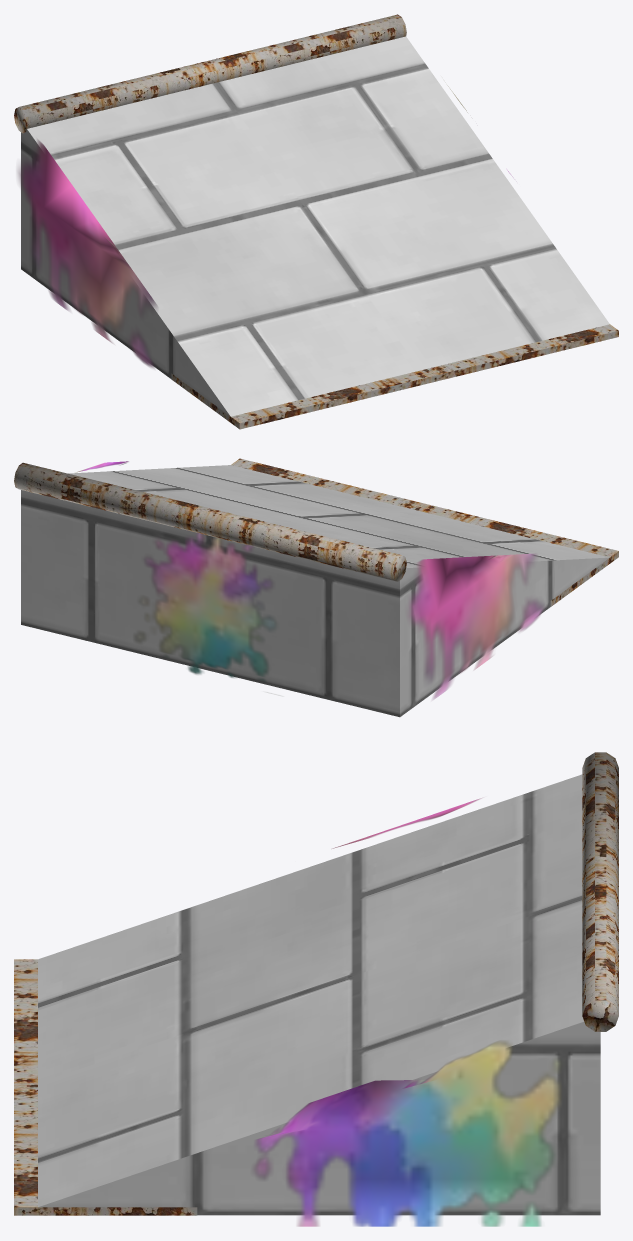
The model's file is Wedge.glb.
3 views of the same model, one above another, from view 1: azimuth 30°, elevation 25°; view 2: azimuth 150°, elevation 25°; view 3: azimuth 270°, elevation 25° (orthographic). The views are drawn at different scales.
Parts seen in each view (by area): view 1: Wedge_Body, Wedge_Edge, Wedge_Paint; view 2: Wedge_Body, Wedge_Paint, Wedge_Edge; view 3: Wedge_Body, Wedge_Paint, Wedge_Edge.
Boxes of the visible parts, bbox=[...] form: Wedge_Body: bbox=[21, 36, 609, 416]; Wedge_Edge: bbox=[14, 14, 618, 429]; Wedge_Paint: bbox=[17, 86, 514, 368]; Wedge_Body: bbox=[21, 465, 609, 717]; Wedge_Paint: bbox=[75, 461, 545, 700]; Wedge_Edge: bbox=[14, 458, 618, 606]; Wedge_Body: bbox=[38, 774, 600, 1215]; Wedge_Paint: bbox=[252, 798, 561, 1226]; Wedge_Edge: bbox=[14, 752, 618, 1215].
Size of the model in its own units: 1.66 by 0.6815 by 1.65.
3 materials, 3 textured.
